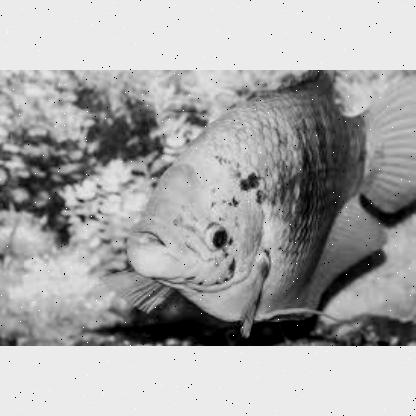gurame: (125, 69, 415, 319)
